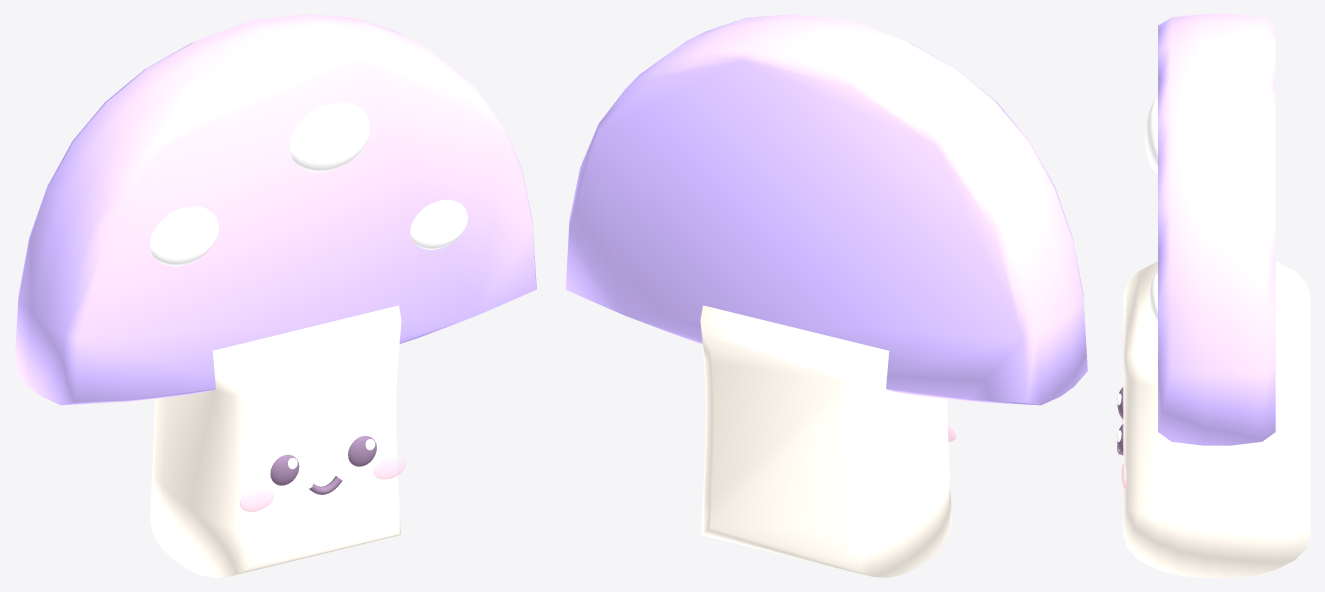
The model's file is life_shroomy.glb.
The picture shows the model from 3 angles, left to right: view 1: azimuth 30°, elevation 25°; view 2: azimuth 150°, elevation 25°; view 3: azimuth 270°, elevation 25°; orthographic projection. The views are drawn at different scales.
Parts seen in each view (by area): view 1: wrap_shroomy_1; view 2: wrap_shroomy_1; view 3: wrap_shroomy_1.
Boxes of the visible parts, <box> form: wrap_shroomy_1: <box>14,14,536,577</box>; wrap_shroomy_1: <box>565,14,1087,577</box>; wrap_shroomy_1: <box>1117,14,1310,577</box>.
Size of the model in its own units: 2.94 by 2.94 by 1.05.
